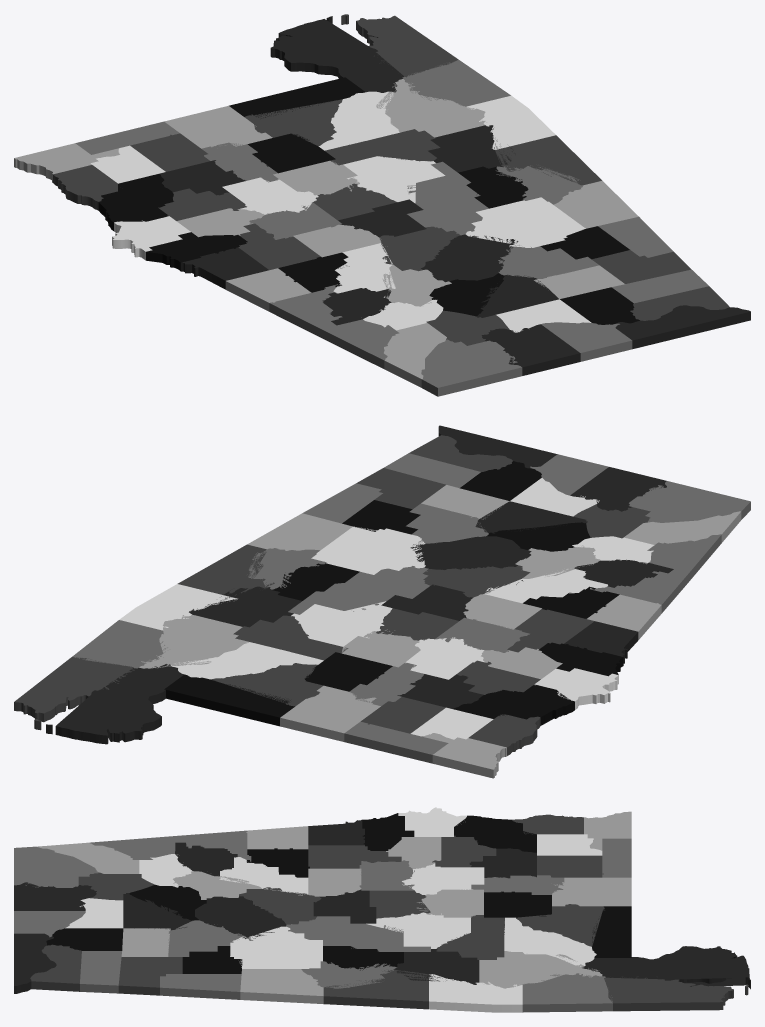
File: Alabama_Counties_3D.fbx
3 views of the same model, one above another, from view 1: azimuth 30°, elevation 25°; view 2: azimuth 150°, elevation 25°; view 3: azimuth 270°, elevation 25° (orthographic). The views are drawn at different scales.
Visible parts, largest first — view 1: AL_Baldwin_County_3D, AL_Jackson_County_3D, AL_Tuscaloosa_County_3D, AL_Clarke_County_3D, AL_Mobile_County_3D, AL_Lauderdale_County_3D, AL_Jefferson_County_3D, AL_Washington_County_3D, AL_Madison_County_3D, AL_Monroe_County_3D, AL_Dallas_County_3D, AL_Sumter_County_3D (+55 smaller); view 2: AL_Baldwin_County_3D, AL_Mobile_County_3D, AL_Tuscaloosa_County_3D, AL_Clarke_County_3D, AL_Escambia_County_3D, AL_Jackson_County_3D, AL_Covington_County_3D, AL_Jefferson_County_3D, AL_Washington_County_3D, AL_Monroe_County_3D, AL_Barbour_County_3D, AL_Dallas_County_3D (+55 smaller); view 3: AL_Baldwin_County_3D, AL_Mobile_County_3D, AL_Tuscaloosa_County_3D, AL_Washington_County_3D, AL_Sumter_County_3D, AL_Choctaw_County_3D, AL_Clarke_County_3D, AL_Pickens_County_3D, AL_Jackson_County_3D, AL_Jefferson_County_3D, AL_Monroe_County_3D, AL_Dallas_County_3D (+55 smaller).
Boxes of the visible parts, <box> form: AL_Baldwin_County_3D: <box>270,16,404,92</box>; AL_Jackson_County_3D: <box>421,339,522,396</box>; AL_Tuscaloosa_County_3D: <box>465,197,585,247</box>; AL_Clarke_County_3D: <box>376,79,486,137</box>; AL_Mobile_County_3D: <box>341,14,458,77</box>; AL_Lauderdale_County_3D: <box>615,305,750,349</box>; AL_Jefferson_County_3D: <box>421,234,518,282</box>; AL_Washington_County_3D: <box>402,59,510,106</box>; AL_Madison_County_3D: <box>481,324,580,375</box>; AL_Monroe_County_3D: <box>318,91,399,150</box>; AL_Dallas_County_3D: <box>343,156,445,202</box>; AL_Sumter_County_3D: <box>495,135,601,185</box>; AL_Baldwin_County_3D: <box>46,664,183,744</box>; AL_Mobile_County_3D: <box>14,657,134,730</box>; AL_Tuscaloosa_County_3D: <box>311,526,425,574</box>; AL_Clarke_County_3D: <box>139,614,248,668</box>; AL_Escambia_County_3D: <box>164,674,294,726</box>; AL_Jackson_County_3D: <box>629,481,750,522</box>; AL_Covington_County_3D: <box>280,685,380,741</box>; AL_Jefferson_County_3D: <box>410,536,531,569</box>; AL_Washington_County_3D: <box>72,620,167,668</box>; AL_Monroe_County_3D: <box>171,642,323,679</box>; AL_Barbour_County_3D: <box>453,685,574,725</box>; AL_Dallas_County_3D: <box>291,601,392,646</box>; AL_Baldwin_County_3D: <box>582,946,750,989</box>; AL_Mobile_County_3D: <box>604,976,748,1011</box>; AL_Tuscaloosa_County_3D: <box>230,926,322,968</box>; AL_Washington_County_3D: <box>522,973,612,1012</box>; AL_Sumter_County_3D: <box>323,969,428,1009</box>; AL_Choctaw_County_3D: <box>429,974,522,1012</box>; AL_Clarke_County_3D: <box>479,951,602,988</box>; AL_Pickens_County_3D: <box>240,969,323,1003</box>; AL_Jackson_County_3D: <box>14,846,99,887</box>; AL_Jefferson_County_3D: <box>195,896,286,940</box>; AL_Monroe_County_3D: <box>504,917,596,966</box>; AL_Dallas_County_3D: <box>366,912,470,948</box>.
Bounding box in the file's own units: 529 × 10 × 836.
